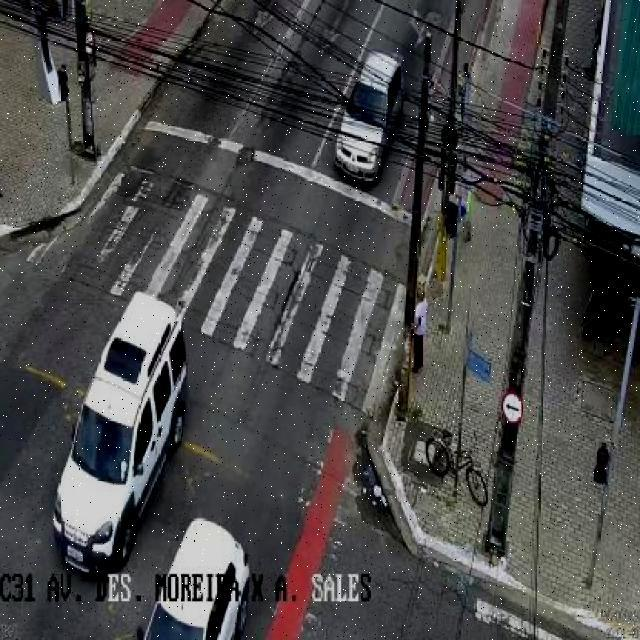Car: (133, 518, 252, 639), (331, 52, 407, 184)
Cycle: (424, 429, 490, 510)
Van: (49, 293, 190, 581)
